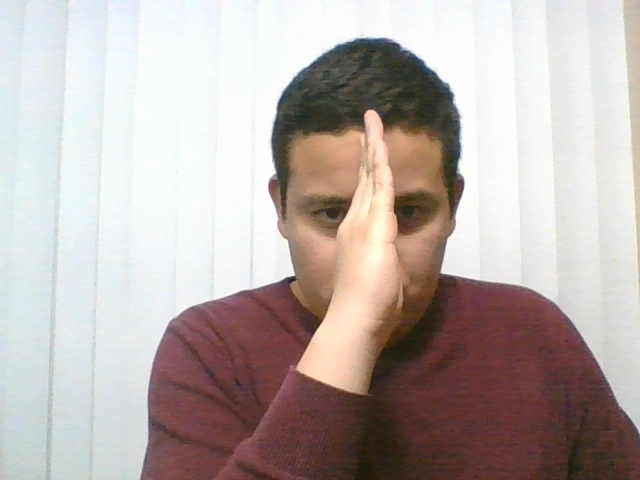God: (258, 90, 470, 369)
